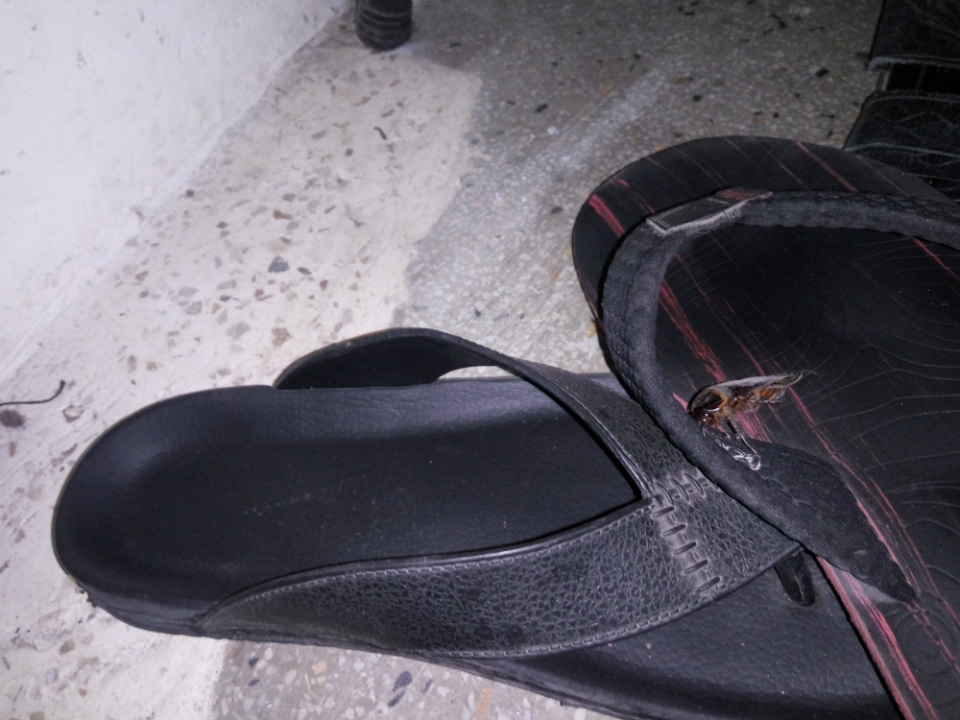cockroach: (665, 343, 859, 452)
